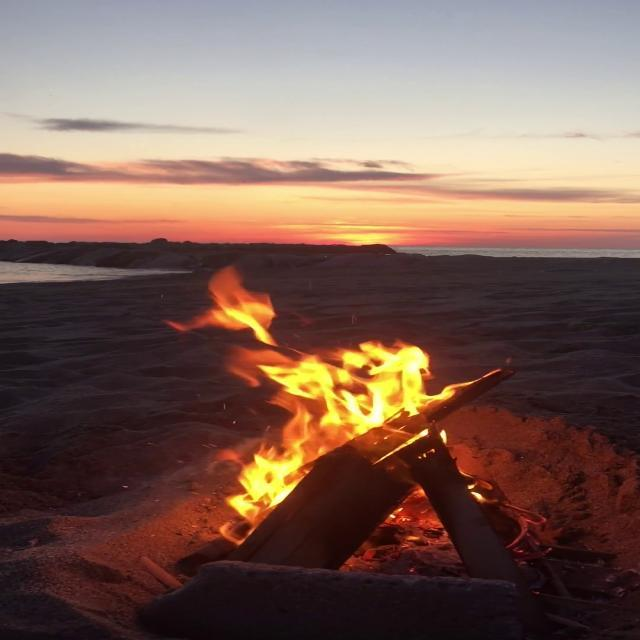Fire: (166, 262, 487, 536)
